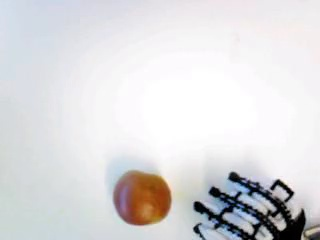apple: (111, 169, 171, 224)
hand: (193, 172, 305, 238)
